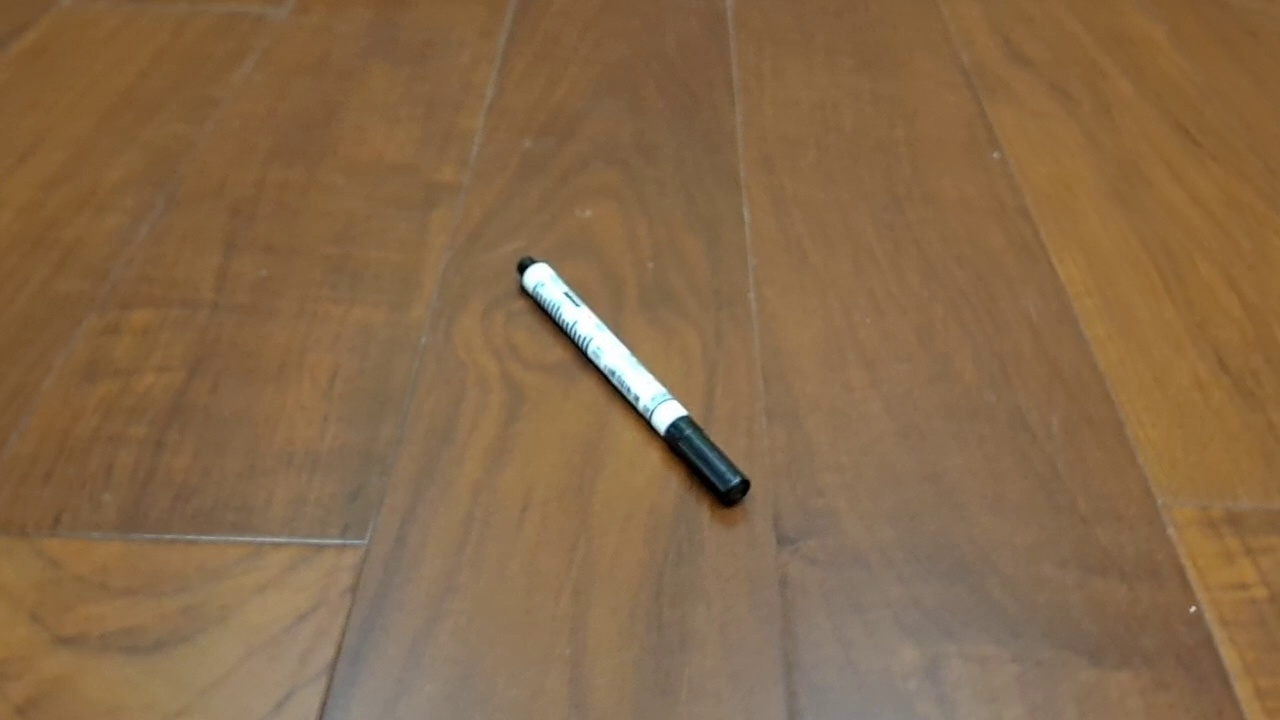pen: (515, 253, 752, 509)
